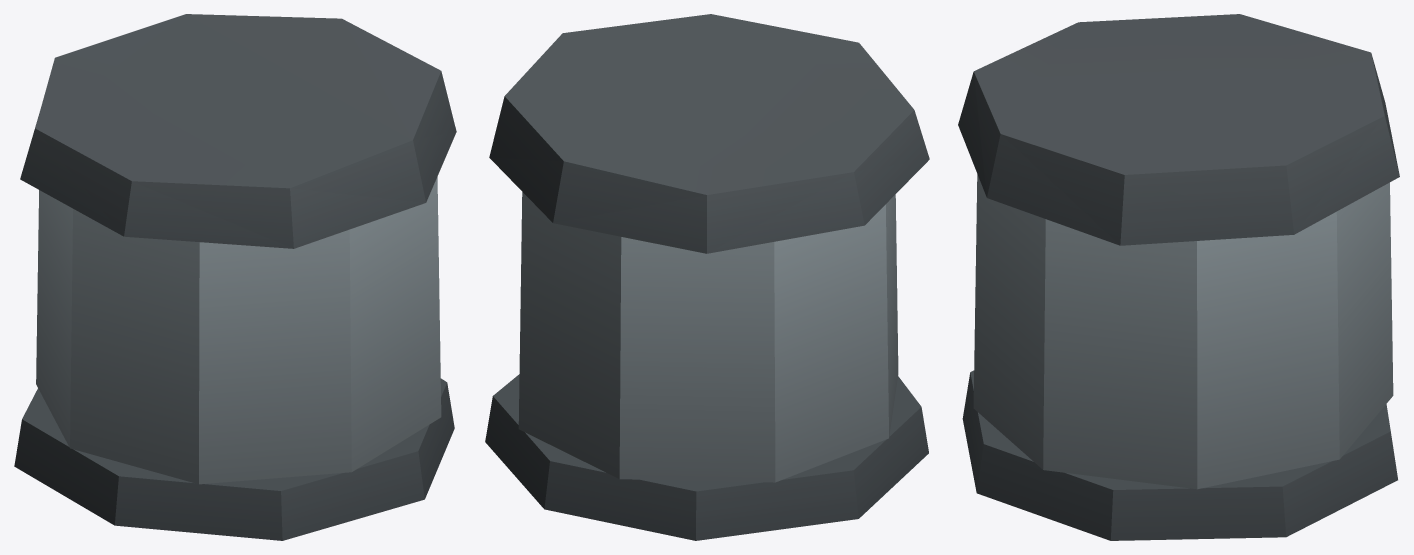
The model's file is crater_pillar.glb.
3 renders of one model, left to right at view 1: azimuth 30°, elevation 25°; view 2: azimuth 150°, elevation 25°; view 3: azimuth 270°, elevation 25°, orthographic. The views are drawn at different scales.
Visible parts, largest first — view 1: crater_pillar; view 2: crater_pillar; view 3: crater_pillar.
Boxes of the visible parts, <box> form: crater_pillar: <box>14,14,456,540</box>; crater_pillar: <box>485,14,929,540</box>; crater_pillar: <box>958,14,1399,540</box>.
Bounding box in the file's own units: 3.38 × 3.04 × 3.36.
Materials: 1 (1 with a texture image).
